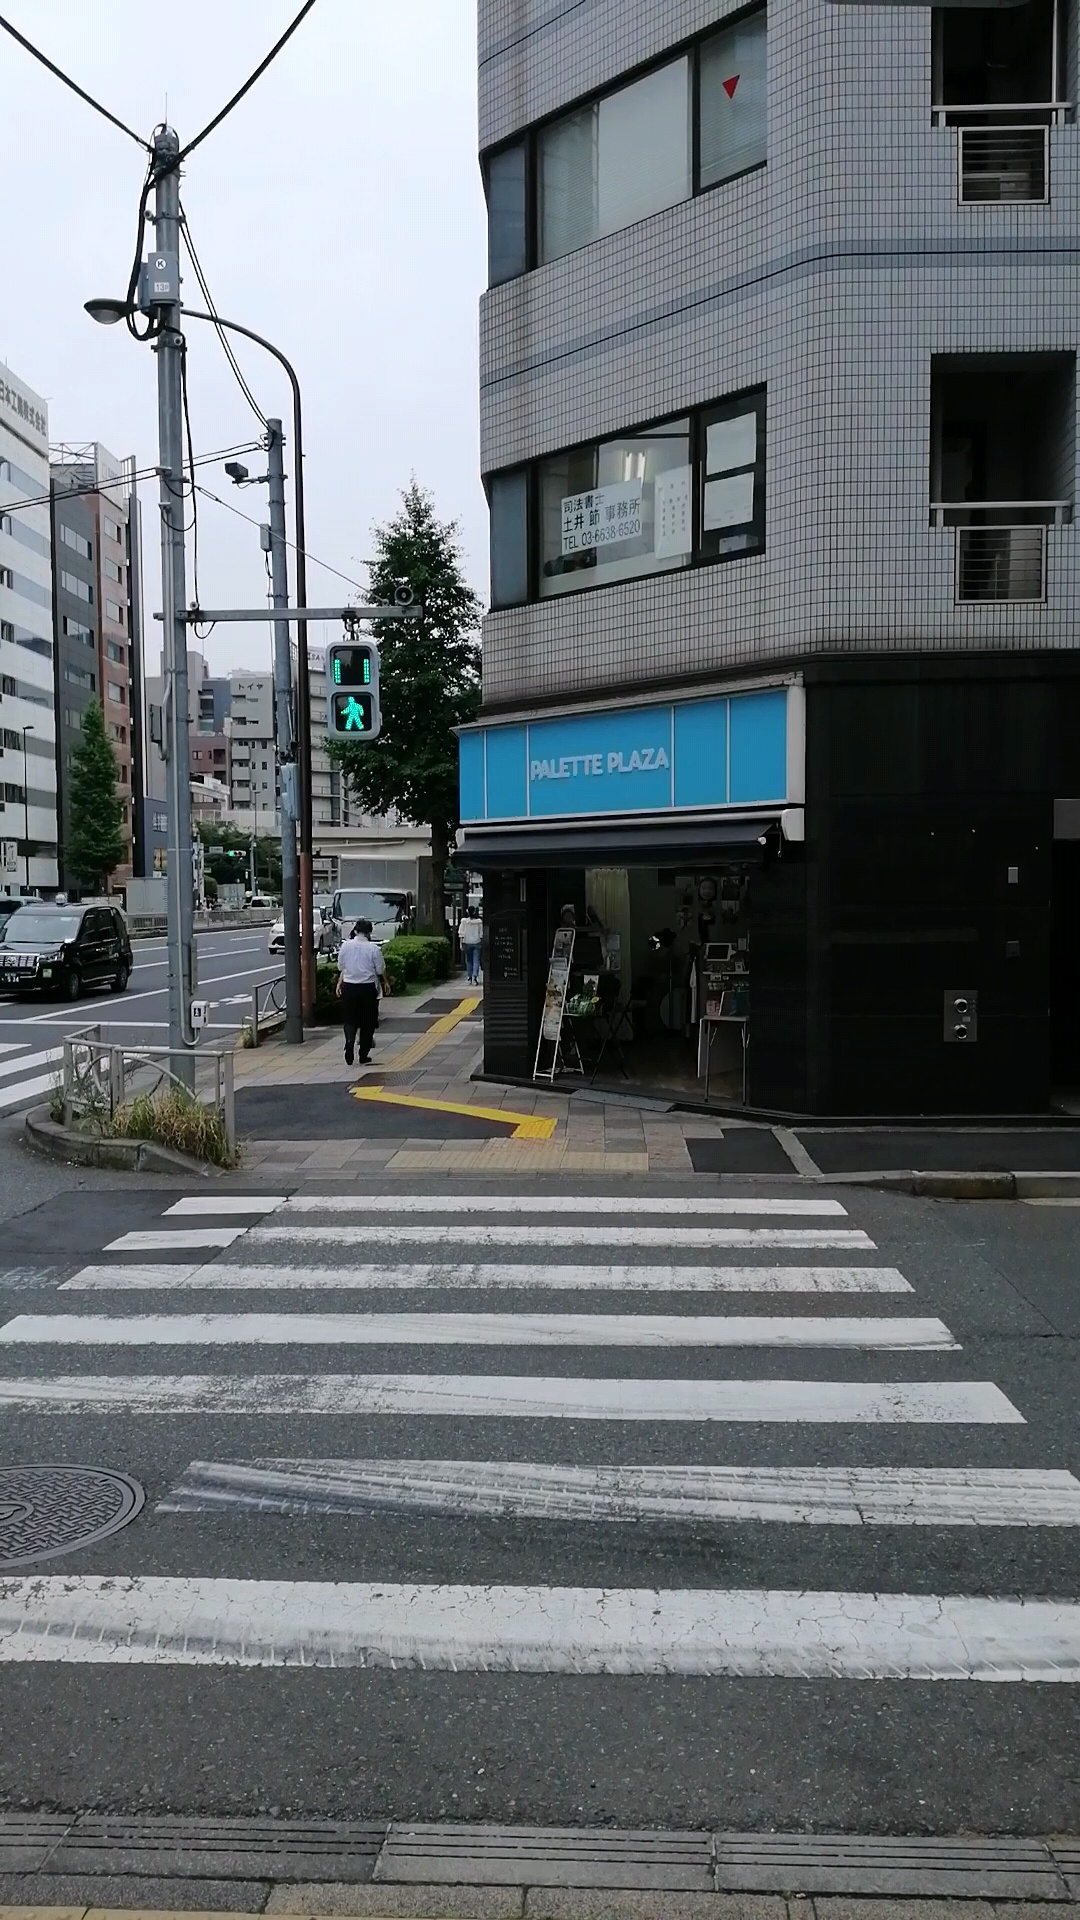green: (326, 640, 380, 738)
